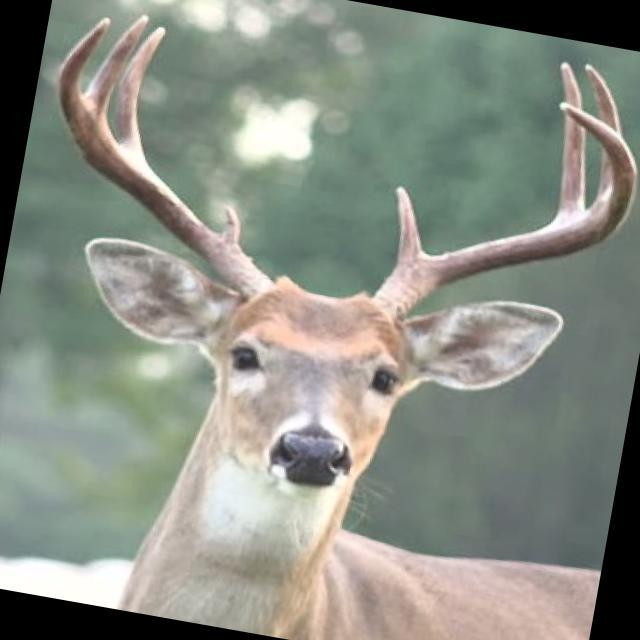L-F: (376, 101, 636, 314)
L-G1: (394, 185, 431, 269)
R-F: (58, 15, 270, 294)
R-G1: (219, 204, 241, 247)
R-G2: (113, 26, 166, 157)
R-G3: (83, 13, 149, 129)
